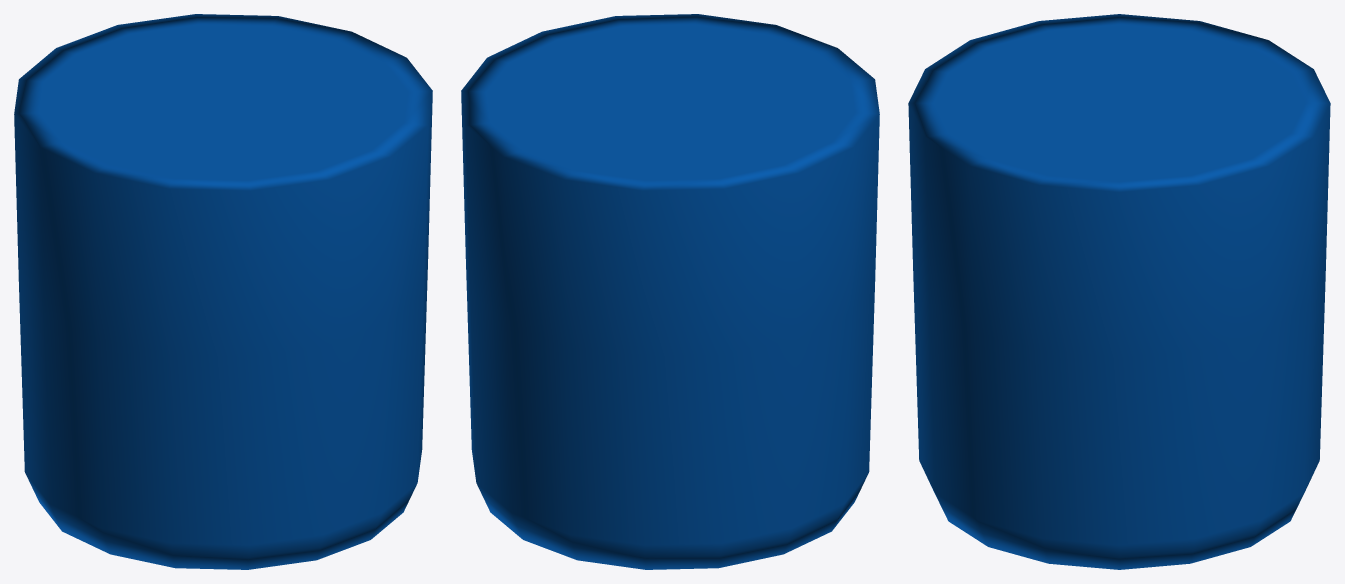
The model's file is glassLiquid.fbx.
The picture shows the model from 3 angles, left to right: view 1: azimuth 30°, elevation 25°; view 2: azimuth 150°, elevation 25°; view 3: azimuth 270°, elevation 25°; orthographic projection.
Visible parts, largest first — view 1: glass1; view 2: glass1; view 3: glass1.
Part boxes in pixels (box(x1,y1,x2,y2)): glass1: box(14, 14, 432, 569); glass1: box(461, 14, 879, 569); glass1: box(908, 14, 1330, 569).
Bounding box in the file's own units: 8.74 × 8.87 × 8.74.
